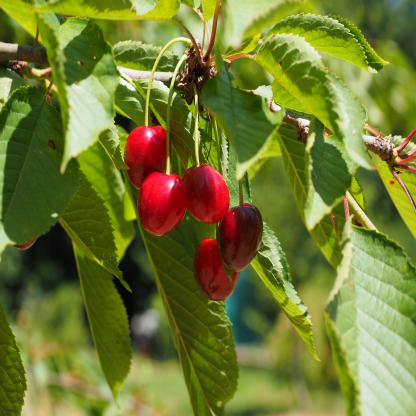Cherry leaf: (0, 79, 80, 261), (200, 47, 285, 187)
